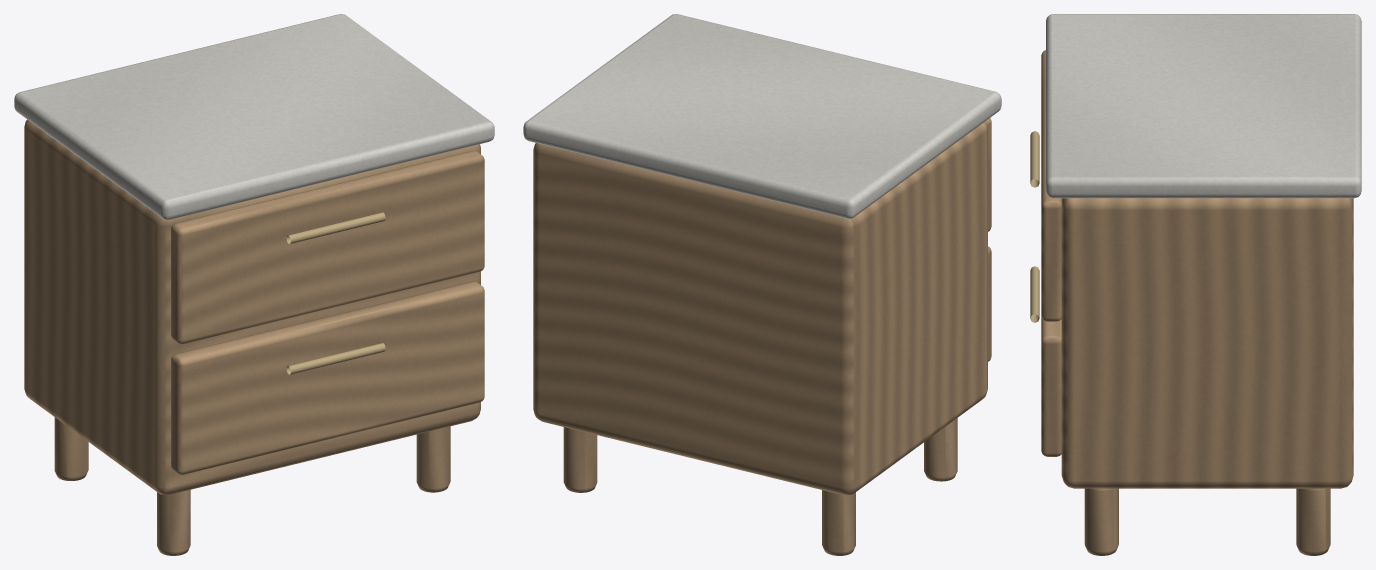
File: nightstand.glb
3 views of the same model, side by side, from view 1: azimuth 30°, elevation 25°; view 2: azimuth 150°, elevation 25°; view 3: azimuth 270°, elevation 25° (orthographic). The views are drawn at different scales.
Visible parts, largest first — view 1: 家具_nightstand; view 2: 家具_nightstand; view 3: 家具_nightstand.
Part boxes in pixels (box(x1,y1,x2,y2)): 家具_nightstand: box(14, 14, 494, 555); 家具_nightstand: box(523, 14, 1001, 555); 家具_nightstand: box(1030, 14, 1361, 555).
Bounding box in the file's own units: 0.48 × 0.52 × 0.4.
3 materials, 2 textured.
